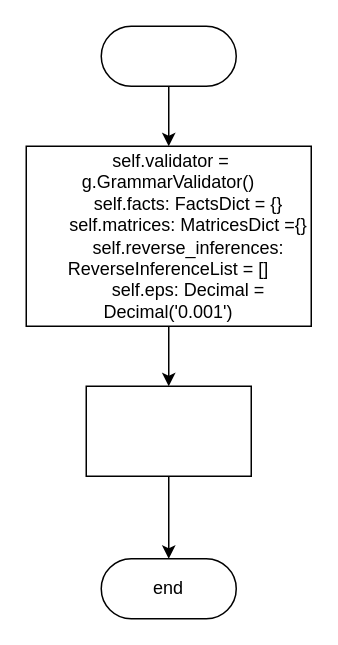
Some shapes in this 338 by 645 pixel diagram are drawn without their labels. The shapes that lost their labels are listed below. From the top down, each one's centre as x and y in pixels, then its label:
At (168,55): "begin".
At (168,430): "return".
